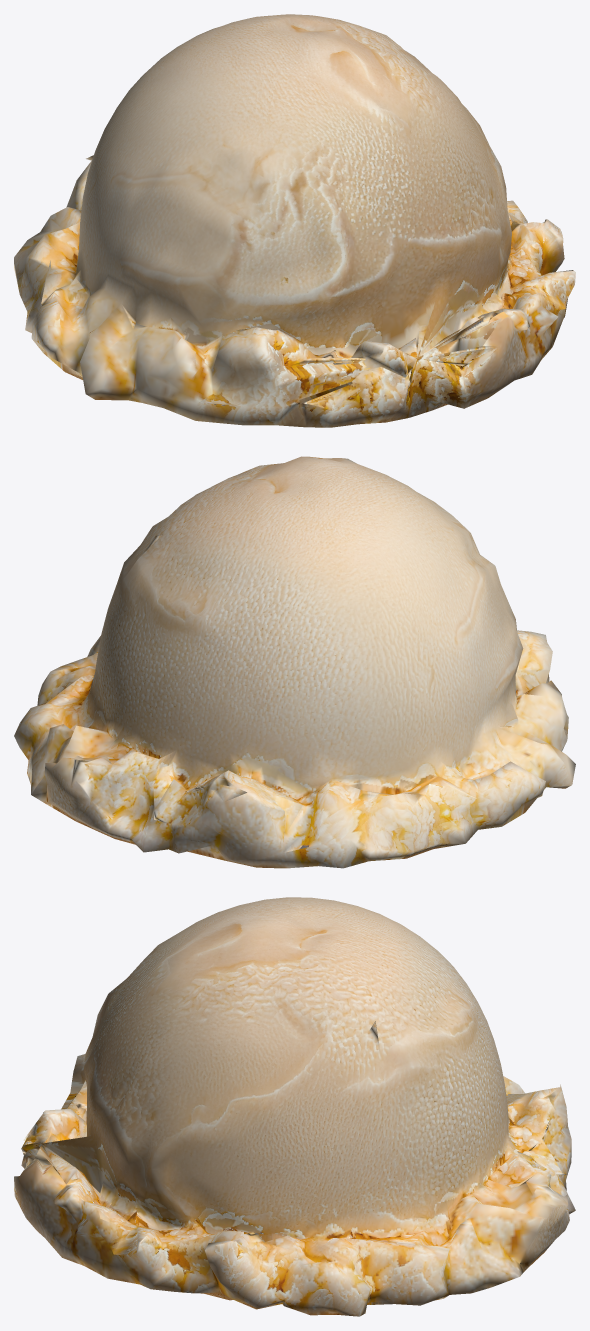
The model's file is v_icecream.fbx.
The picture shows the model from 3 angles, top to bottom: view 1: azimuth 30°, elevation 25°; view 2: azimuth 150°, elevation 25°; view 3: azimuth 270°, elevation 25°; orthographic projection. The views are drawn at different scales.
Visible parts, largest first — view 1: texture_mapping; view 2: texture_mapping; view 3: texture_mapping.
Boxes of the visible parts, x1,y1,x2,y2 form: texture_mapping: (14,14,575,427); texture_mapping: (14,456,575,868); texture_mapping: (14,897,575,1316).
Bounding box in the file's own units: 0.9872 × 0.9807 × 0.5472.
1 material, 1 textured.
